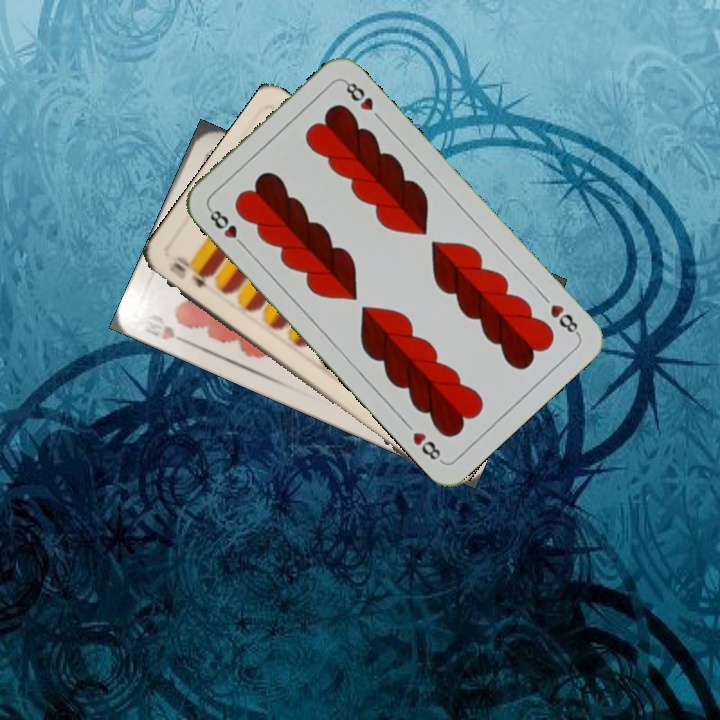E10: (164, 252, 211, 291)
H10: (157, 321, 194, 348)
H8: (204, 203, 249, 251), (546, 300, 582, 338)
